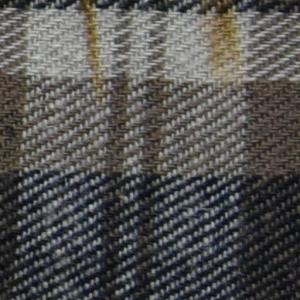Oil Stain: (195, 1, 251, 94), (77, 1, 111, 104)
